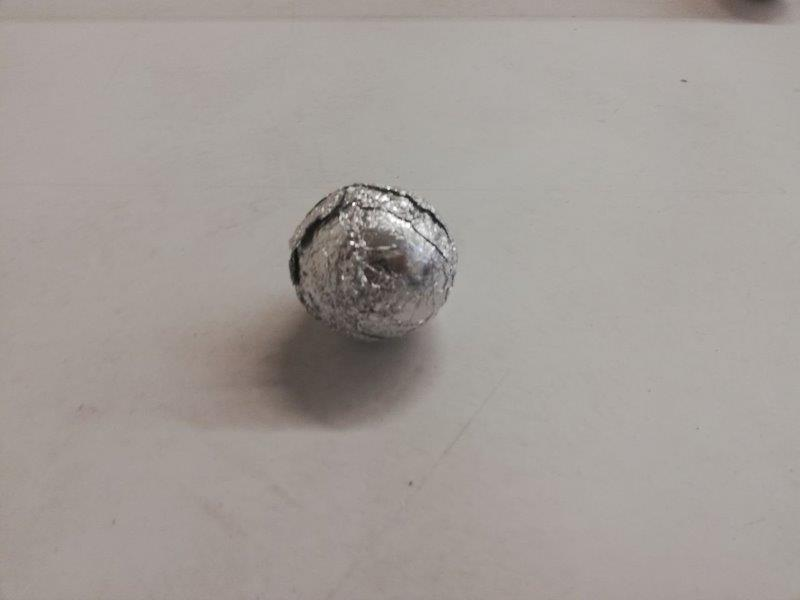bianca: (285, 181, 464, 343)
